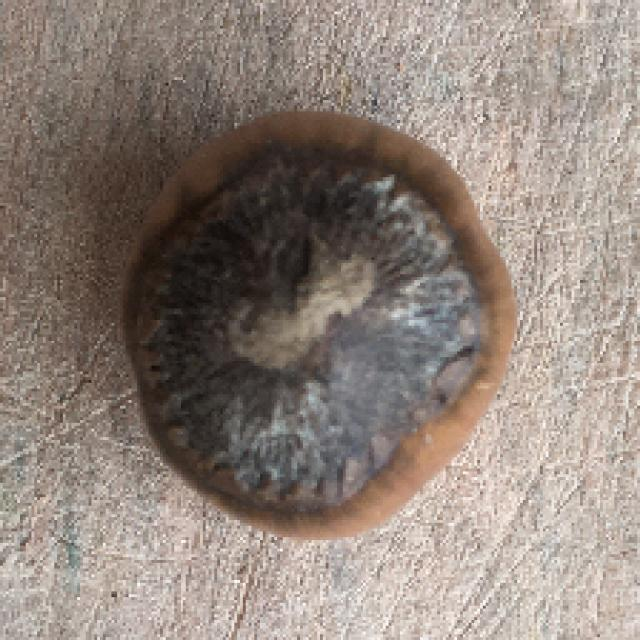damagedHazelnut: (119, 116, 525, 548)
